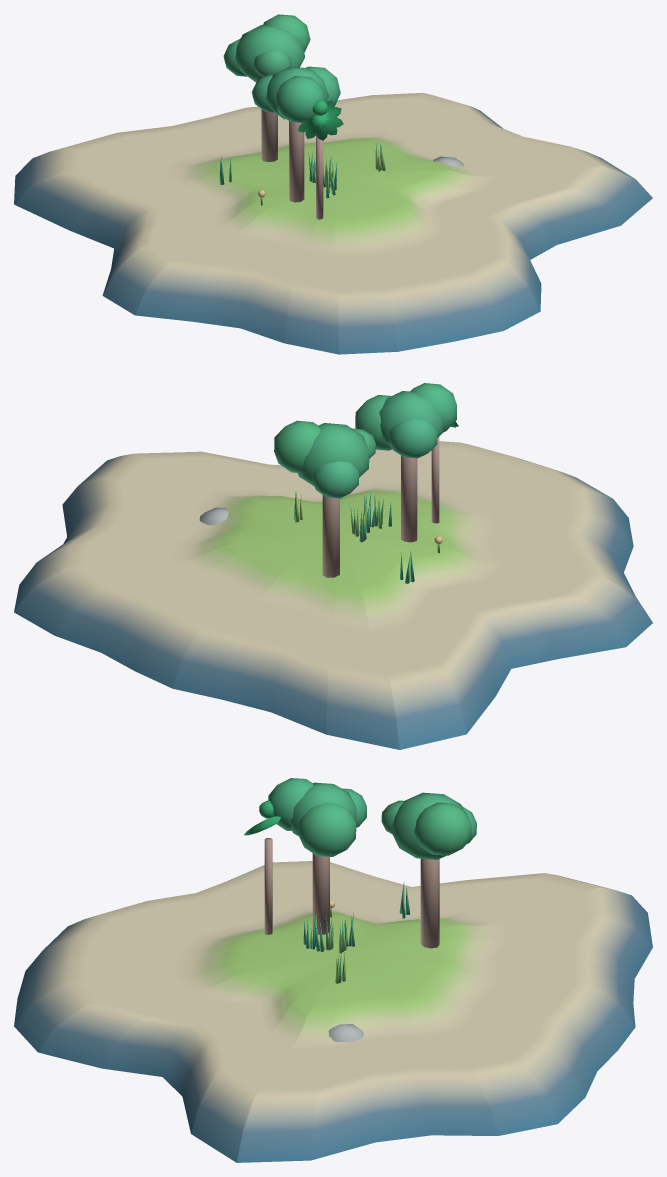
File: terrain_island_11.glb
3 views of the same model, one above another, from view 1: azimuth 30°, elevation 25°; view 2: azimuth 150°, elevation 25°; view 3: azimuth 270°, elevation 25° (orthographic). The views are drawn at different scales.
Parts seen in each view (by area): view 1: island_terrain, veg_tree1_tree_crown_c, veg_tree0_tree_crown_2, veg_tree0_tree_trunk, veg_tree0_tree_crown_c, veg_tree1_tree_trunk, veg_tree1_tree_crown_2, veg_tree1_tree_crown_1, veg_tree2_palm_trunk, veg_tree0_tree_crown_1, veg_tree0_tree_crown_0; view 2: island_terrain, veg_tree1_tree_crown_c, veg_tree0_tree_crown_c, veg_tree1_tree_crown_1, veg_tree0_tree_crown_0, veg_tree1_tree_trunk, veg_tree0_tree_trunk, veg_tree1_tree_crown_0, veg_tree0_tree_crown_1, veg_tree0_tree_crown_2, veg_tree2_palm_trunk; view 3: island_terrain, veg_tree0_tree_crown_1, veg_tree1_tree_crown_1, veg_tree1_tree_crown_c, veg_tree1_tree_trunk, veg_tree0_tree_crown_c, veg_tree0_tree_trunk, veg_tree0_tree_crown_2, veg_tree2_palm_trunk.
Boxes of the visible parts, <box> form: island_terrain: <box>14,92,652,354</box>; veg_tree1_tree_crown_c: <box>235,25,304,82</box>; veg_tree0_tree_crown_2: <box>275,76,326,122</box>; veg_tree0_tree_trunk: <box>289,121,304,202</box>; veg_tree0_tree_crown_c: <box>266,66,328,119</box>; veg_tree1_tree_trunk: <box>261,109,277,161</box>; veg_tree1_tree_crown_2: <box>253,49,292,77</box>; veg_tree1_tree_crown_1: <box>263,14,310,52</box>; veg_tree2_palm_trunk: <box>316,135,323,219</box>; veg_tree0_tree_crown_1: <box>306,66,340,107</box>; veg_tree0_tree_crown_0: <box>251,74,274,112</box>; island_terrain: <box>14,441,652,749</box>; veg_tree1_tree_crown_c: <box>297,423,369,486</box>; veg_tree0_tree_crown_c: <box>379,391,443,446</box>; veg_tree1_tree_crown_1: <box>274,420,320,472</box>; veg_tree0_tree_crown_0: <box>388,418,437,458</box>; veg_tree1_tree_trunk: <box>322,495,339,577</box>; veg_tree0_tree_trunk: <box>401,455,417,542</box>; veg_tree1_tree_crown_0: <box>312,461,358,498</box>; veg_tree0_tree_crown_1: <box>355,395,391,450</box>; veg_tree0_tree_crown_2: <box>410,383,456,432</box>; veg_tree2_palm_trunk: <box>431,437,439,523</box>; island_terrain: <box>14,861,652,1162</box>; veg_tree0_tree_crown_1: <box>298,803,356,856</box>; veg_tree1_tree_crown_1: <box>414,802,471,855</box>; veg_tree1_tree_crown_c: <box>391,792,463,859</box>; veg_tree1_tree_trunk: <box>420,858,439,948</box>; veg_tree0_tree_crown_c: <box>290,782,356,836</box>; veg_tree0_tree_trunk: <box>312,853,329,934</box>; veg_tree0_tree_crown_2: <box>268,778,313,830</box>; veg_tree2_palm_trunk: <box>264,838,272,934</box>.
Bounding box in the file's own units: 161 × 54.69 × 154.
